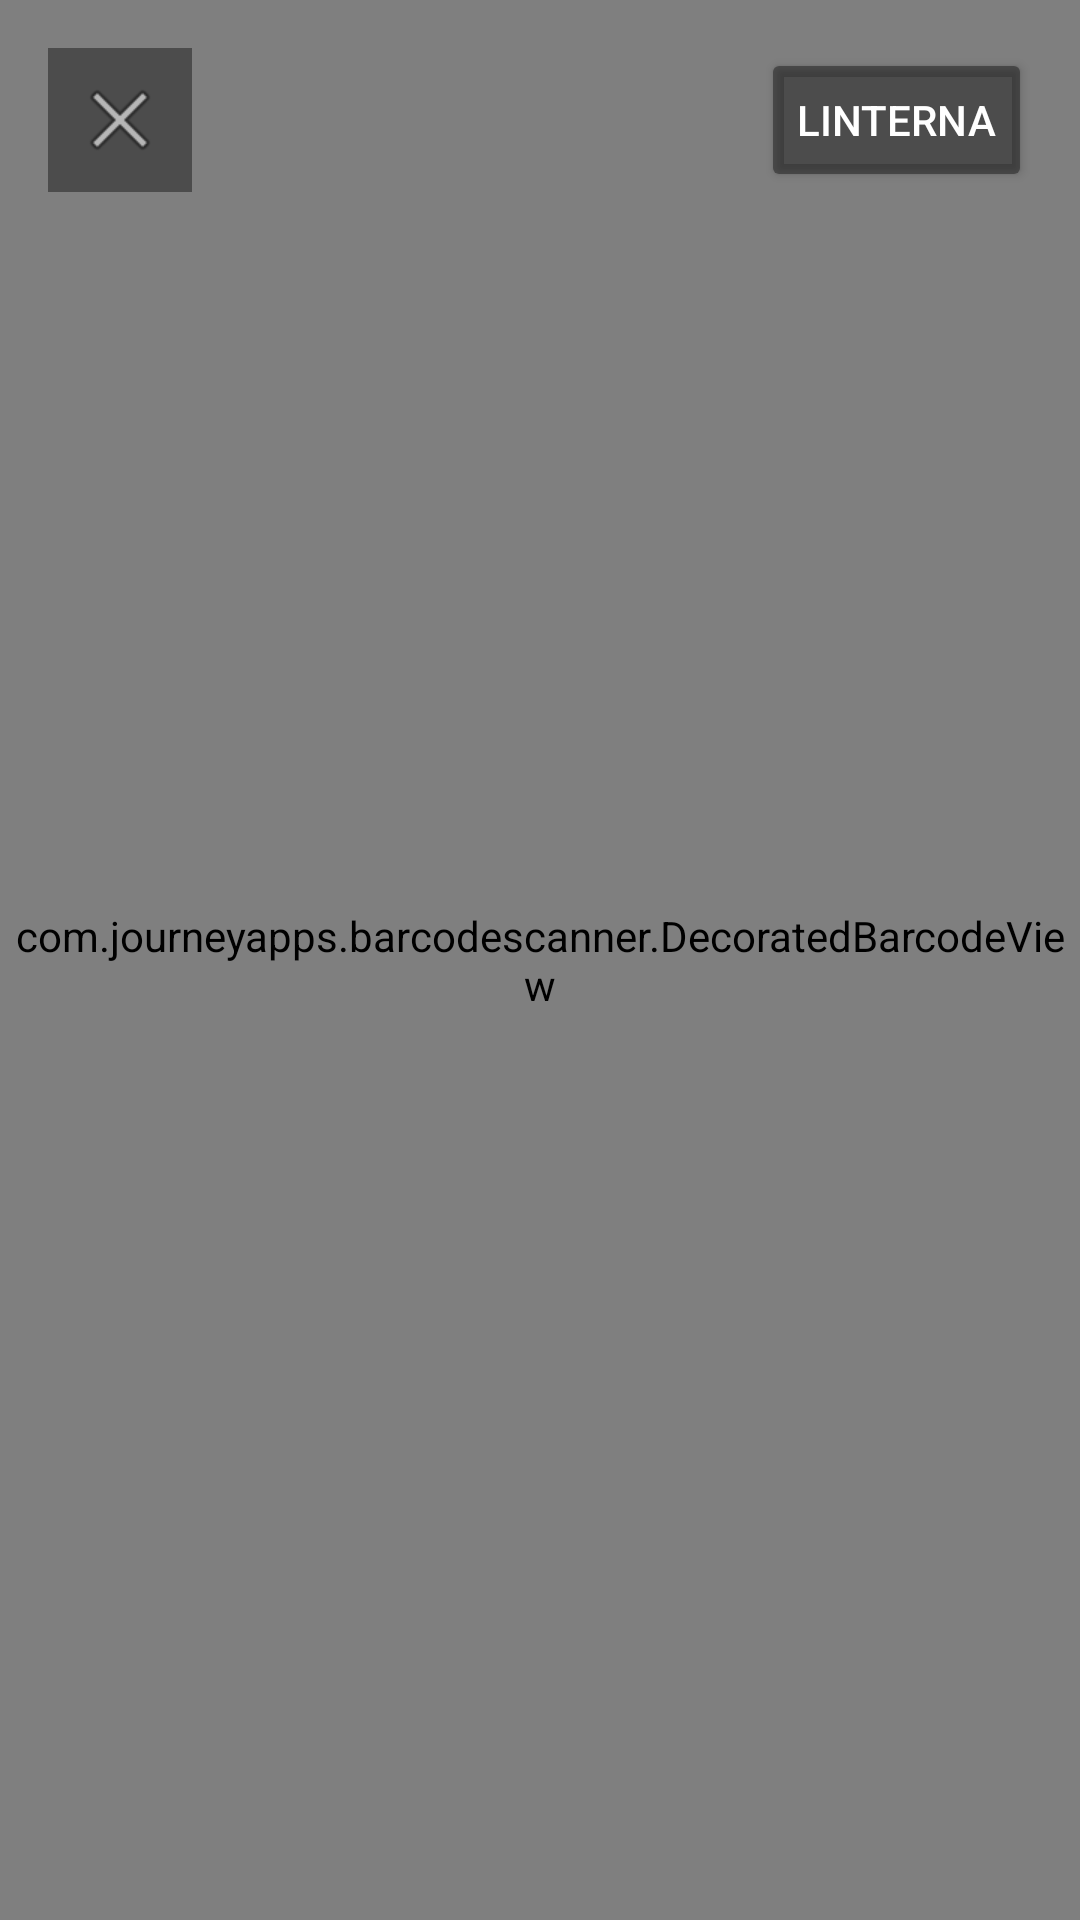

Screen size 1080 x 1920. Icon name, then its box in pixels as Rect(x1, y1, x2, y2):
Cerrar: Rect(48, 48, 192, 192)
